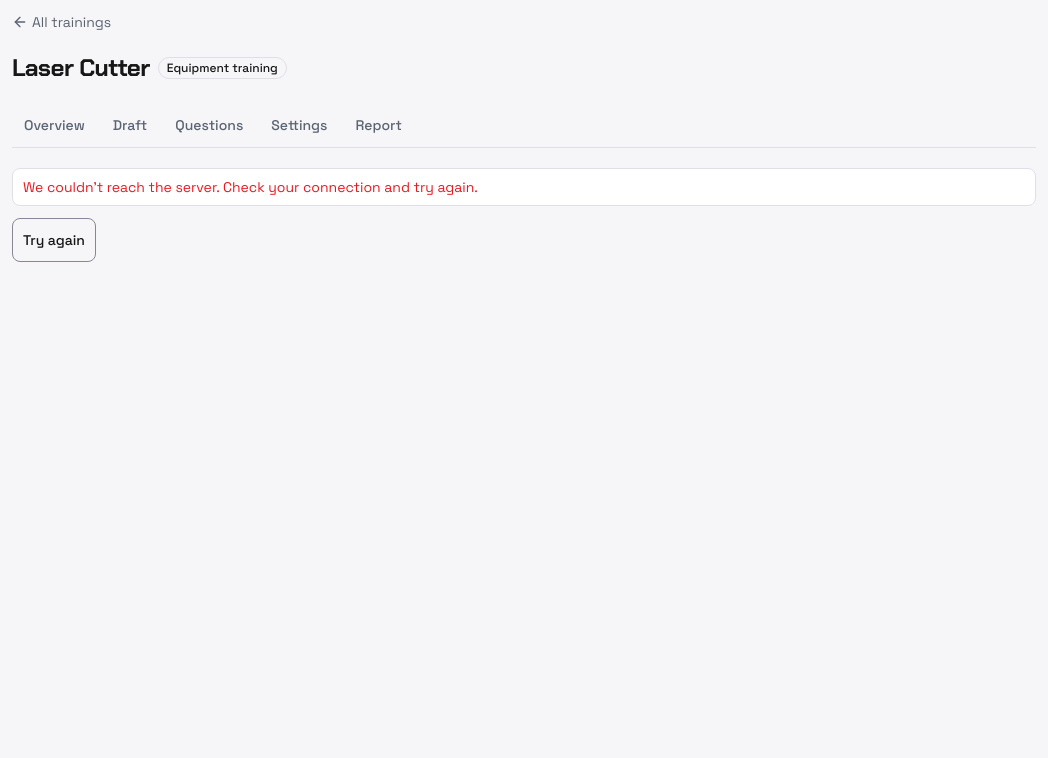
TrainingSettingsPage › offers a retry when the defaults cannot be loaded
The image size is (1048, 758).
Expected: the heading "Laser Cutter" is shown, [12, 52, 150, 84]
Expected: the text "reach the server" is shown, [23, 178, 478, 196]
Click the button "Try again" at (54, 240), box [12, 218, 96, 262]
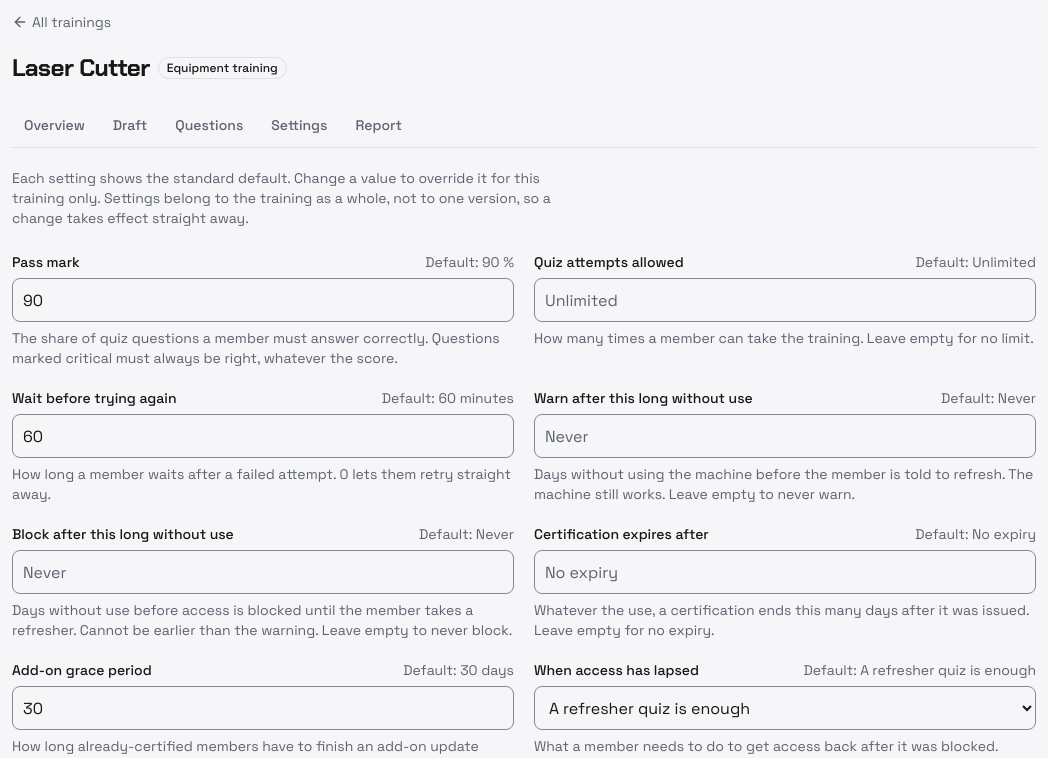
Expected: the field labelled "Pass mark" is shown, [12, 278, 514, 322]
